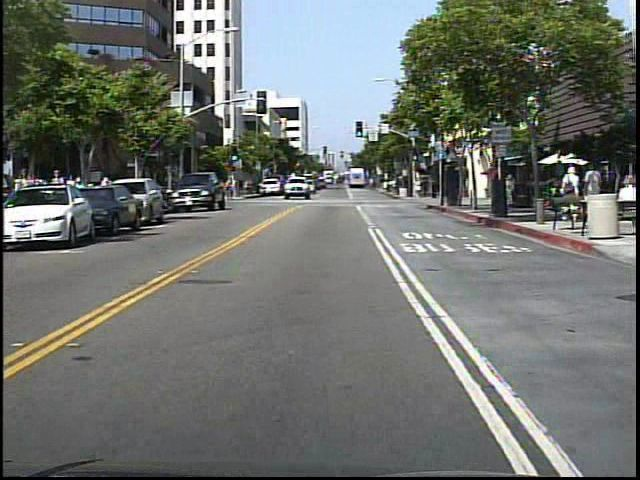person: (16, 162, 38, 223), (504, 170, 515, 214), (227, 173, 239, 200)
